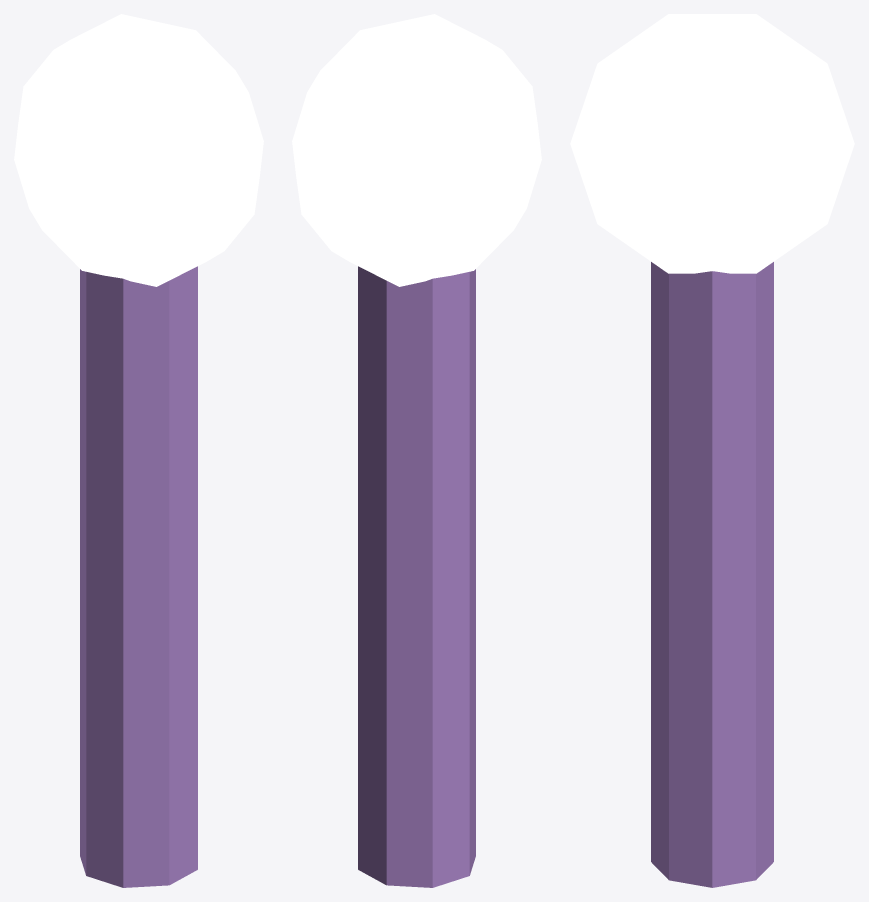
File: SM_Seraphine_Microphone.fbx
3 views of the same model, side by side, from view 1: azimuth 30°, elevation 25°; view 2: azimuth 150°, elevation 25°; view 3: azimuth 270°, elevation 25° (orthographic).
Parts seen in each view (by area): view 1: SM_Seraphine_Microphone; view 2: SM_Seraphine_Microphone; view 3: SM_Seraphine_Microphone.
Boxes of the visible parts, bbox=[...] form: SM_Seraphine_Microphone: bbox=[14, 14, 263, 887]; SM_Seraphine_Microphone: bbox=[292, 14, 541, 887]; SM_Seraphine_Microphone: bbox=[570, 14, 854, 887].
Bounding box in the file's own units: 7.42 × 8.8 × 28.8.
